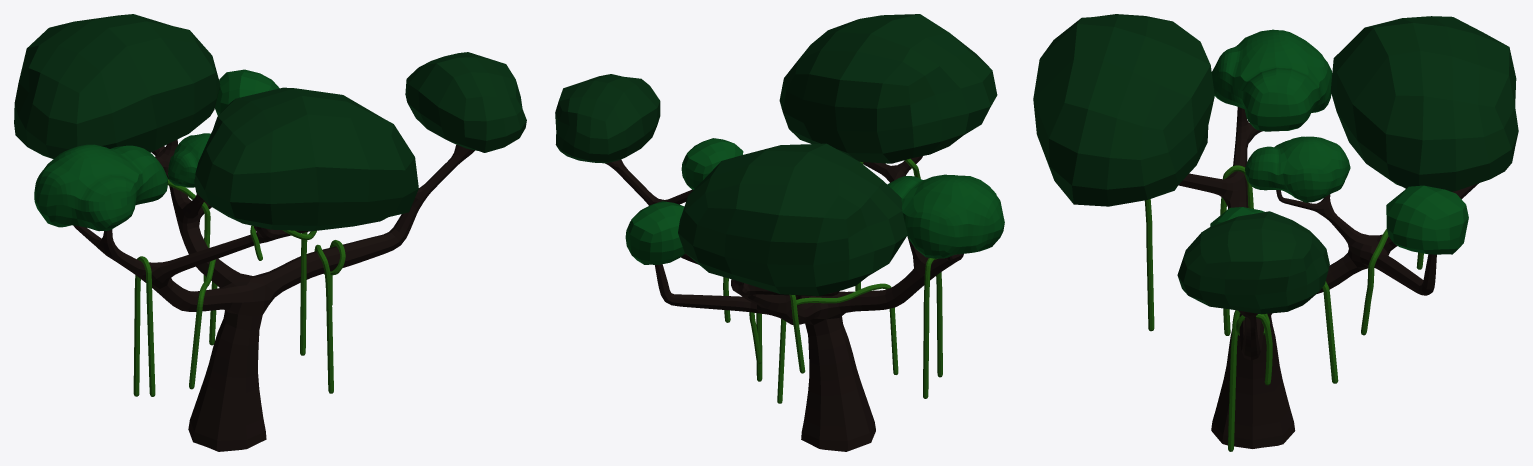
Rendered from lp_tree_1_Cube_029.obj.
3 renders of one model, left to right at view 1: azimuth 30°, elevation 25°; view 2: azimuth 150°, elevation 25°; view 3: azimuth 270°, elevation 25°, orthographic. The views are drawn at different scales.
Parts seen in each view (by area): view 1: lp_tree_1_Cube_029; view 2: lp_tree_1_Cube_029; view 3: lp_tree_1_Cube_029.
Boxes of the visible parts, left/top/right/bottom form: lp_tree_1_Cube_029: left=14, top=14, right=526, bottom=451; lp_tree_1_Cube_029: left=555, top=14, right=1004, bottom=451; lp_tree_1_Cube_029: left=1033, top=14, right=1518, bottom=451.
Size of the model in its own units: 31.72 by 25.39 by 26.89.
